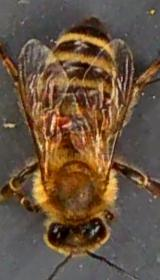varroa_mite: (48, 114, 76, 130)
